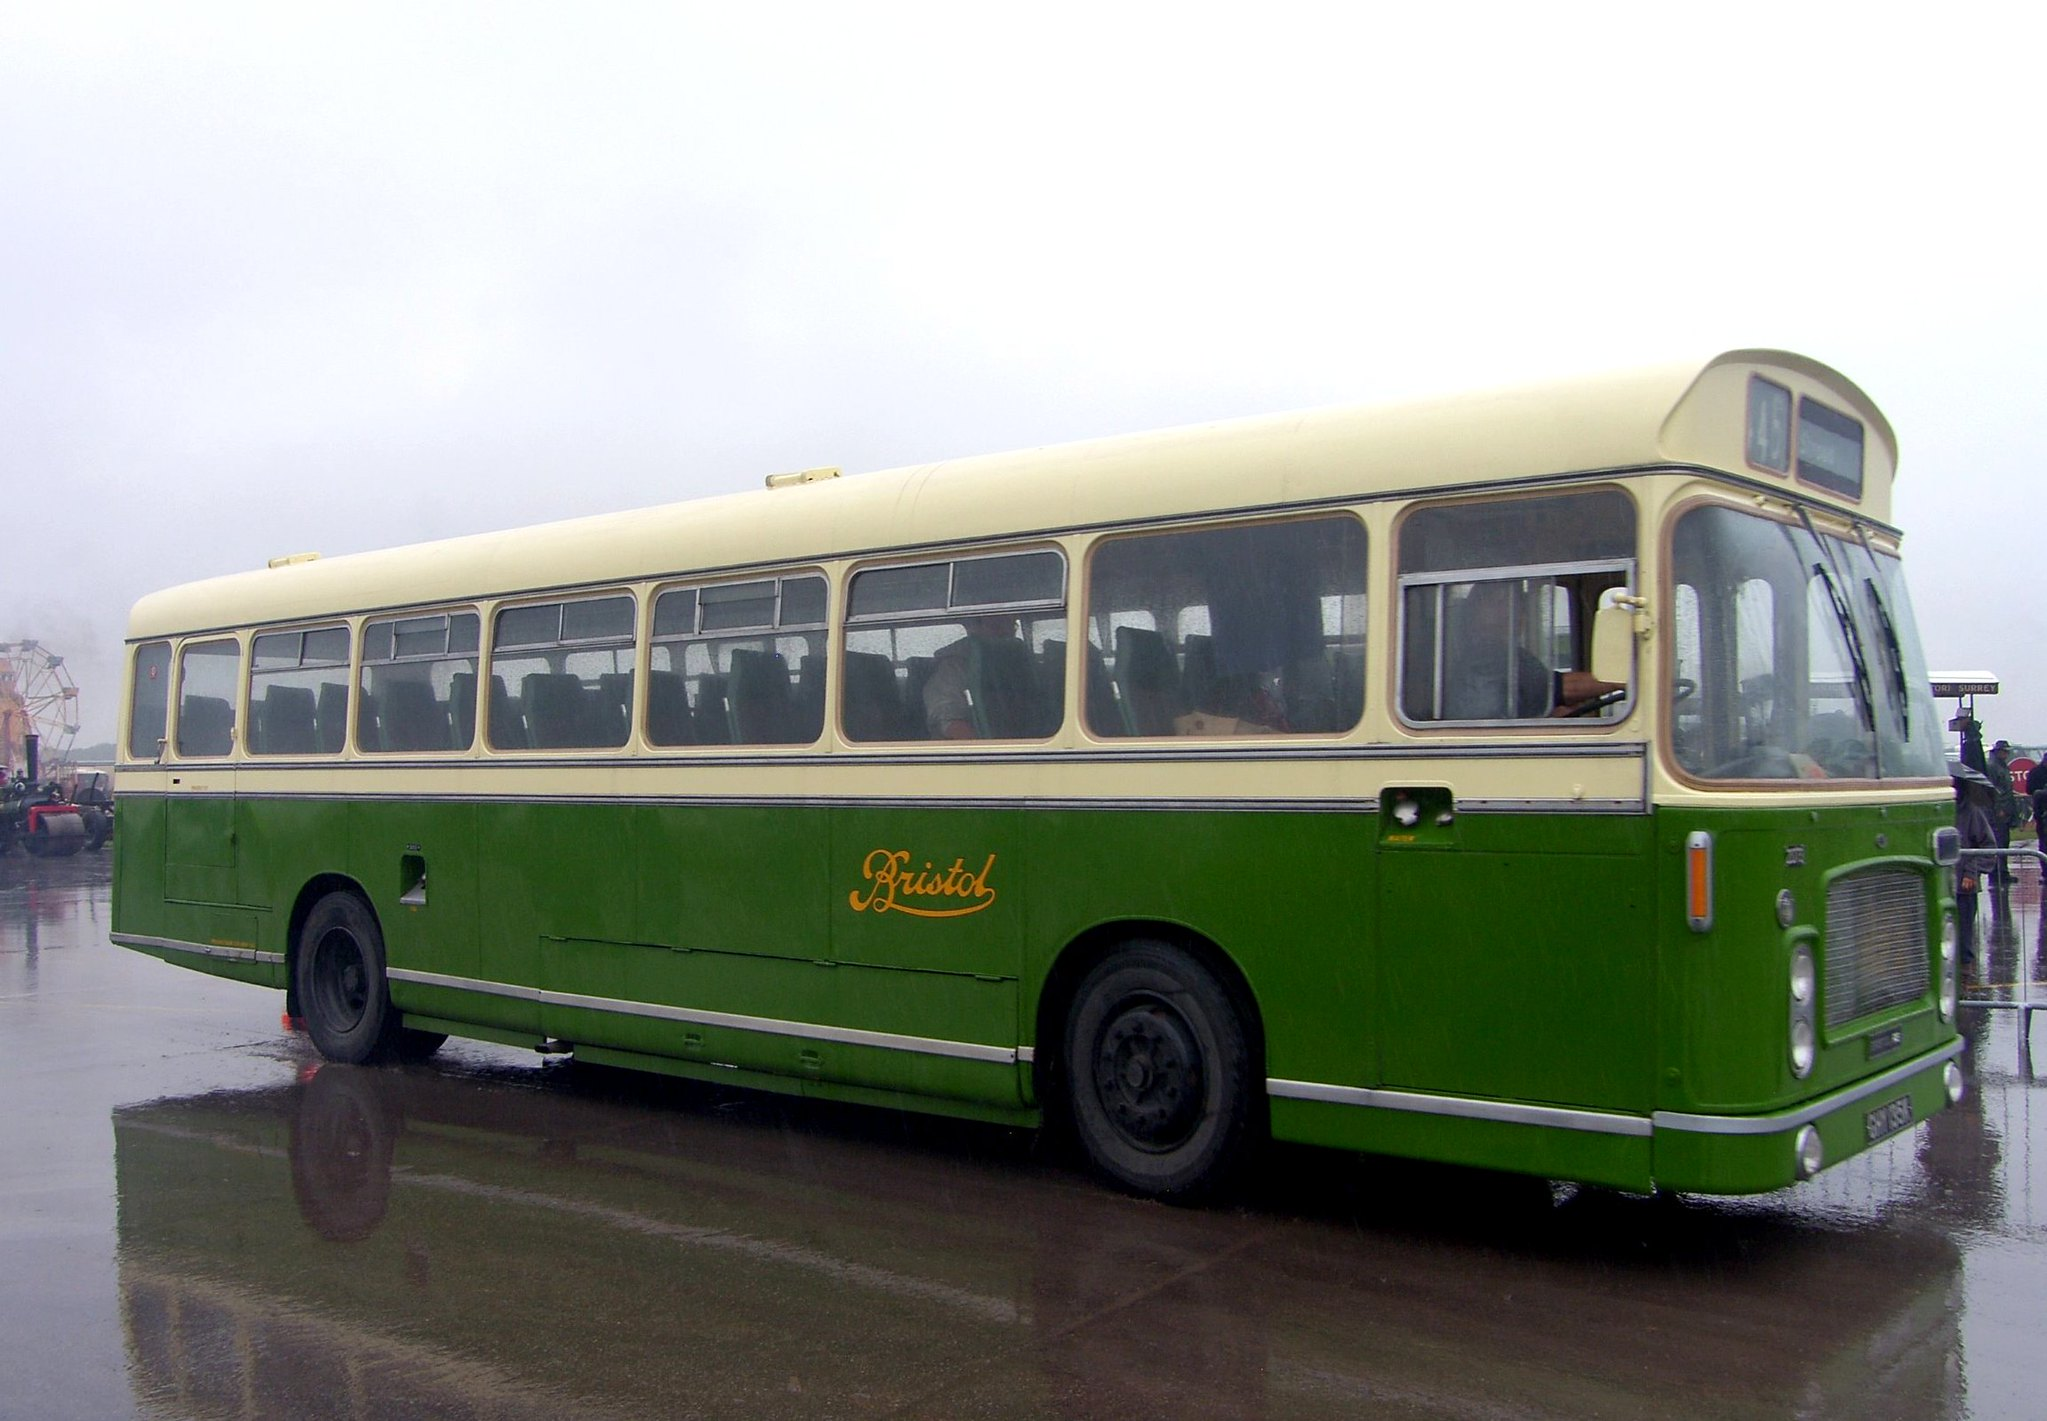bus: (126, 354, 1988, 1228)
